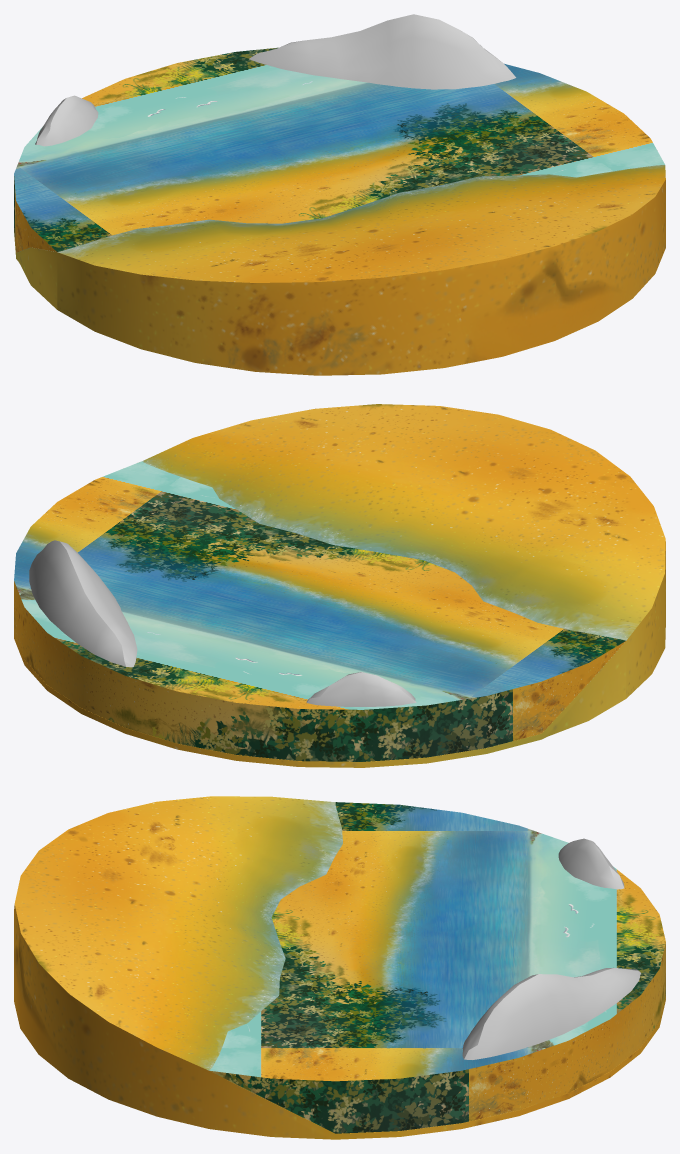
Rendered from scenarios1_background.fbx.
3 renders of one model, top to bottom at view 1: azimuth 30°, elevation 25°; view 2: azimuth 150°, elevation 25°; view 3: azimuth 270°, elevation 25°, orthographic.
Visible parts, largest first — view 1: Cylinder, Cylinder.001, Cylinder.002, Cylinder.003, Cylinder.006; view 2: Cylinder, Cylinder.001, Cylinder.006, Cylinder.002, Cylinder.003; view 3: Cylinder, Cylinder.001, Cylinder.006, Cylinder.002, Cylinder.003.
Part boxes in pixels (x1,y1,x2,y2): Cylinder: [14, 165, 665, 375]; Cylinder.001: [14, 47, 664, 251]; Cylinder.002: [249, 14, 516, 89]; Cylinder.003: [35, 95, 98, 146]; Cylinder.006: [14, 176, 56, 252]; Cylinder: [14, 404, 665, 767]; Cylinder.001: [14, 461, 625, 709]; Cylinder.006: [14, 581, 625, 761]; Cylinder.002: [29, 540, 137, 667]; Cylinder.003: [306, 672, 416, 706]; Cylinder: [14, 796, 665, 1139]; Cylinder.001: [209, 802, 665, 1081]; Cylinder.006: [209, 942, 665, 1133]; Cylinder.002: [462, 967, 640, 1059]; Cylinder.003: [558, 838, 624, 889].
Bounding box in the file's own units: 2055 × 383 × 2028.
